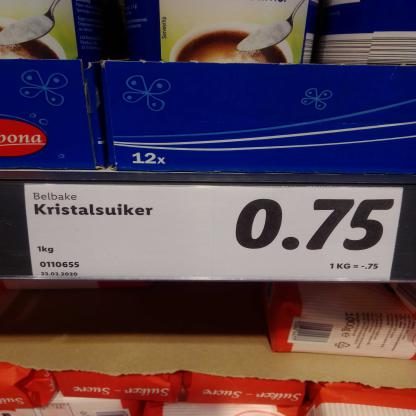prtg: (25, 184, 404, 282)
